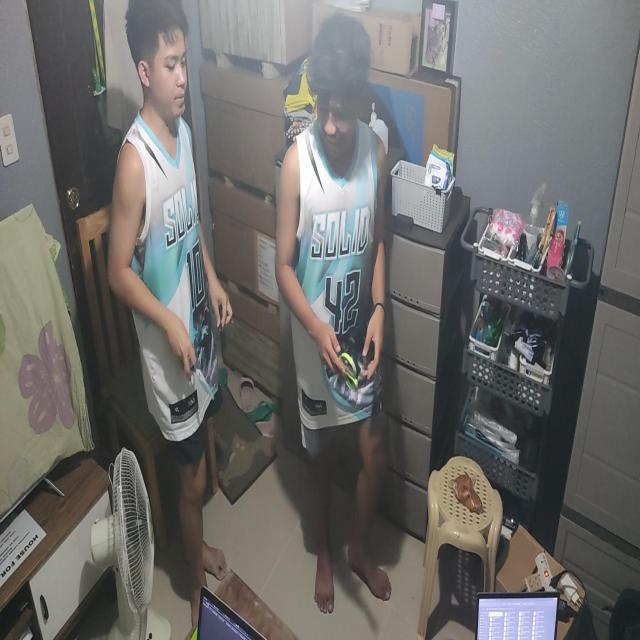scissor: (176, 340, 216, 405), (317, 346, 360, 397)
